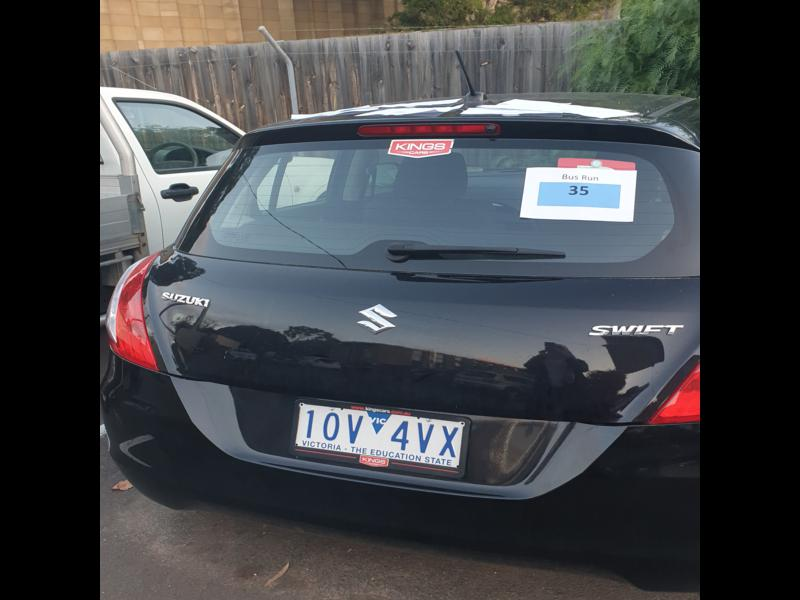BusRun: (484, 192, 563, 215)
PlateNo: (288, 497, 492, 553)
